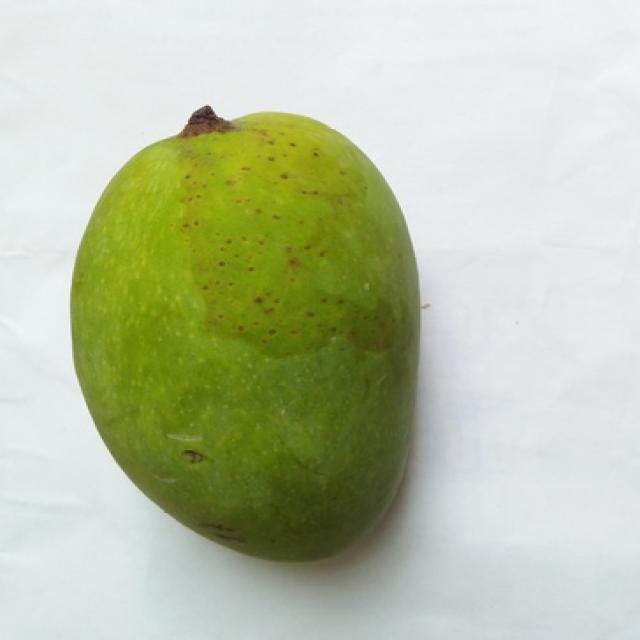Mango: (74, 113, 417, 559)
